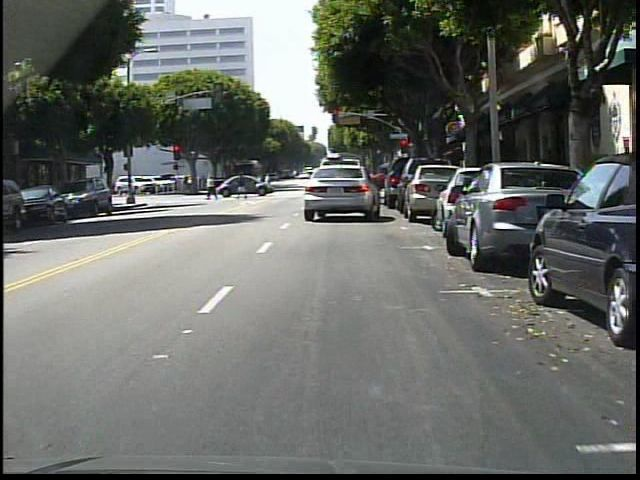person: (236, 172, 249, 201), (206, 175, 219, 199), (266, 173, 273, 192)
